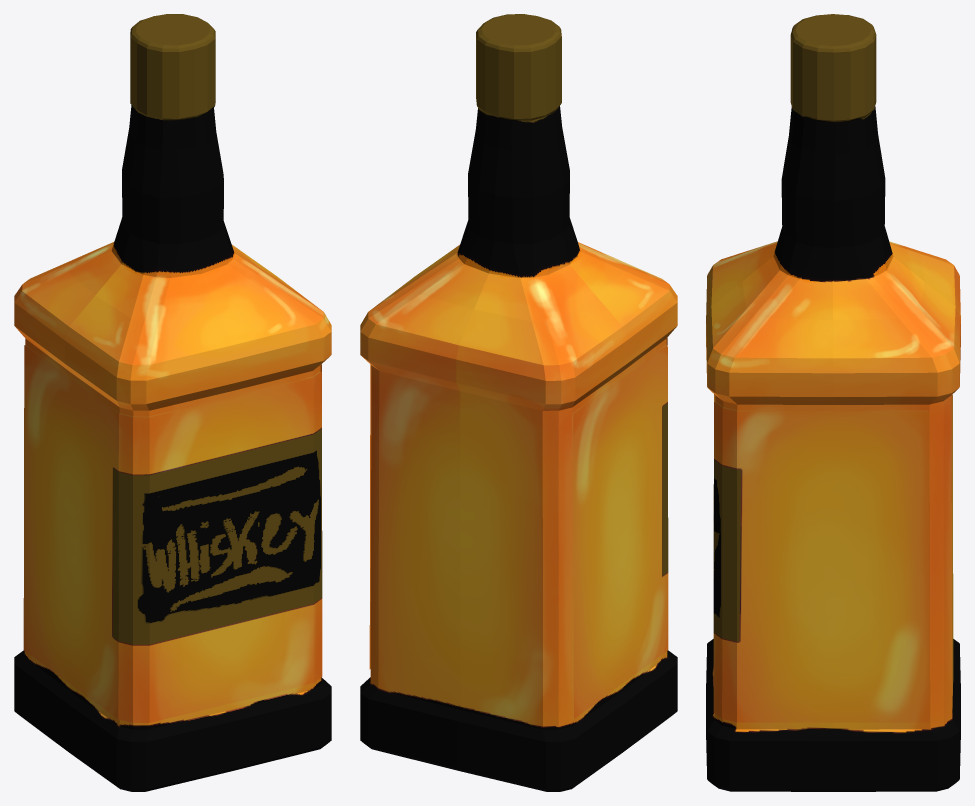
File: Whiskey.fbx
3 renders of one model, left to right at view 1: azimuth 30°, elevation 25°; view 2: azimuth 150°, elevation 25°; view 3: azimuth 270°, elevation 25°, orthographic.
Visible parts, largest first — view 1: jd_bottle_lowpoly; view 2: jd_bottle_lowpoly; view 3: jd_bottle_lowpoly.
Boxes of the visible parts, <box> form: jd_bottle_lowpoly: <box>14,14,331,791</box>; jd_bottle_lowpoly: <box>360,14,677,791</box>; jd_bottle_lowpoly: <box>706,14,960,791</box>.
Bounding box in the file's own units: 65.06 × 200 × 65.06.
